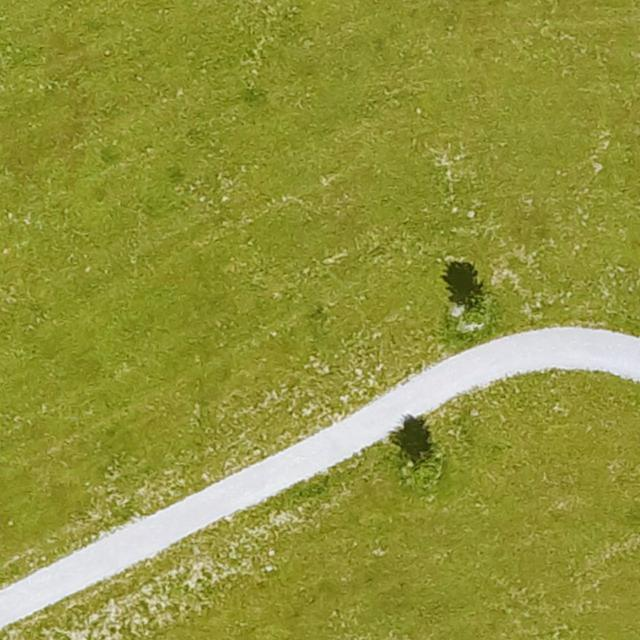tree: (458, 295, 496, 331), (411, 456, 439, 495)
